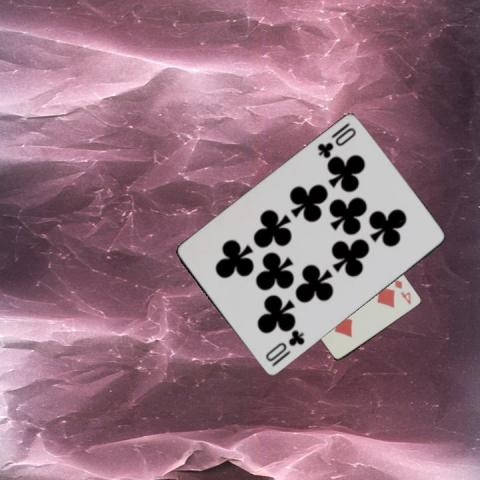10c: (262, 327, 307, 368), (314, 120, 357, 161)
4d: (392, 277, 413, 306)
